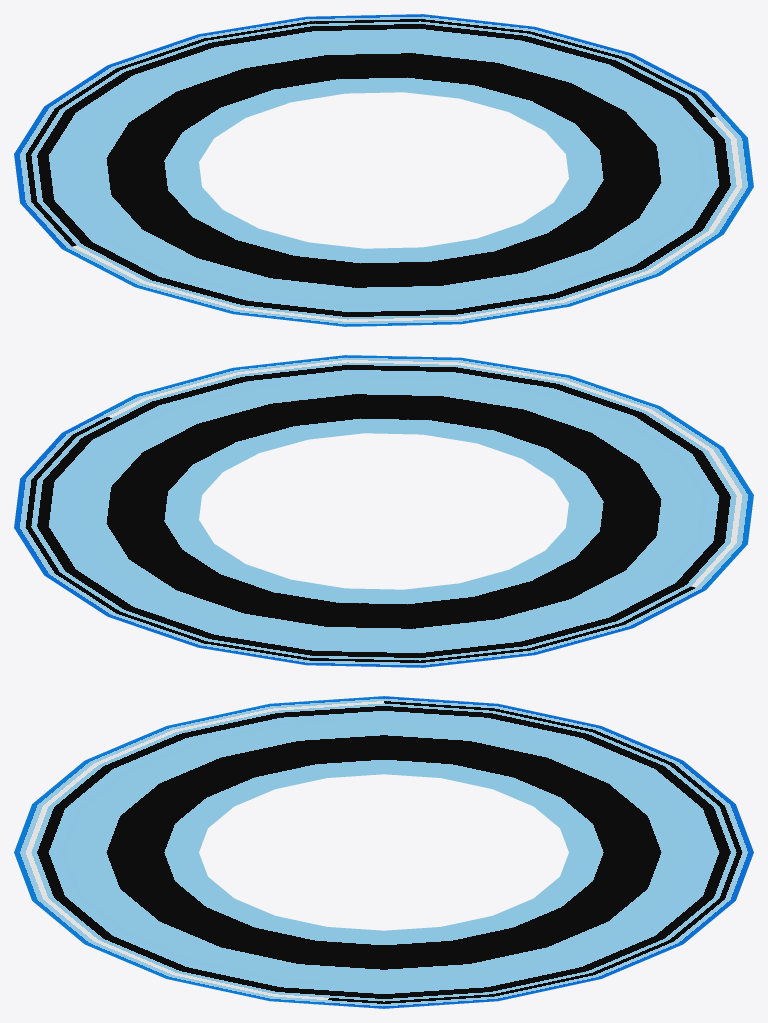
Rendered from neptune.obj.
The picture shows the model from 3 angles, top to bottom: view 1: azimuth 30°, elevation 25°; view 2: azimuth 150°, elevation 25°; view 3: azimuth 270°, elevation 25°; orthographic projection.
Visible parts, largest first — view 1: unknown; view 2: unknown; view 3: unknown.
Part boxes in pixels (x1,y1,x2,y2): unknown: [14, 14, 753, 326]; unknown: [14, 355, 753, 667]; unknown: [14, 696, 753, 1008].
Bounding box in the file's own units: 3 × 0 × 3.
